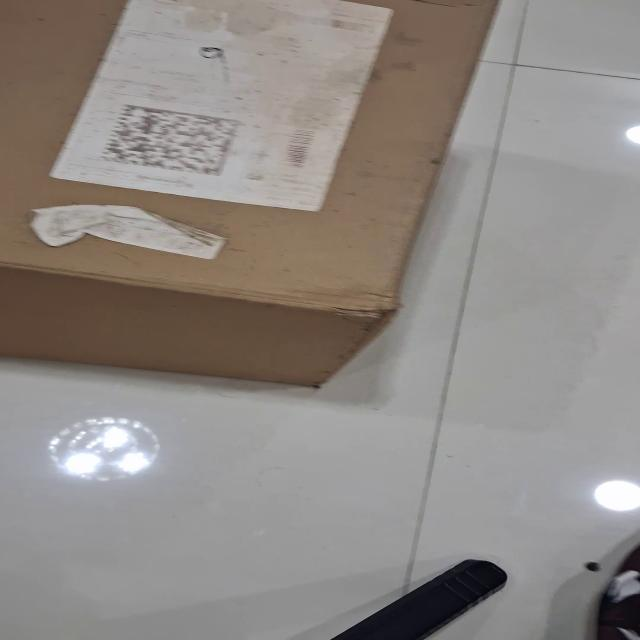paper: (46, 0, 394, 212), (29, 203, 228, 260)
